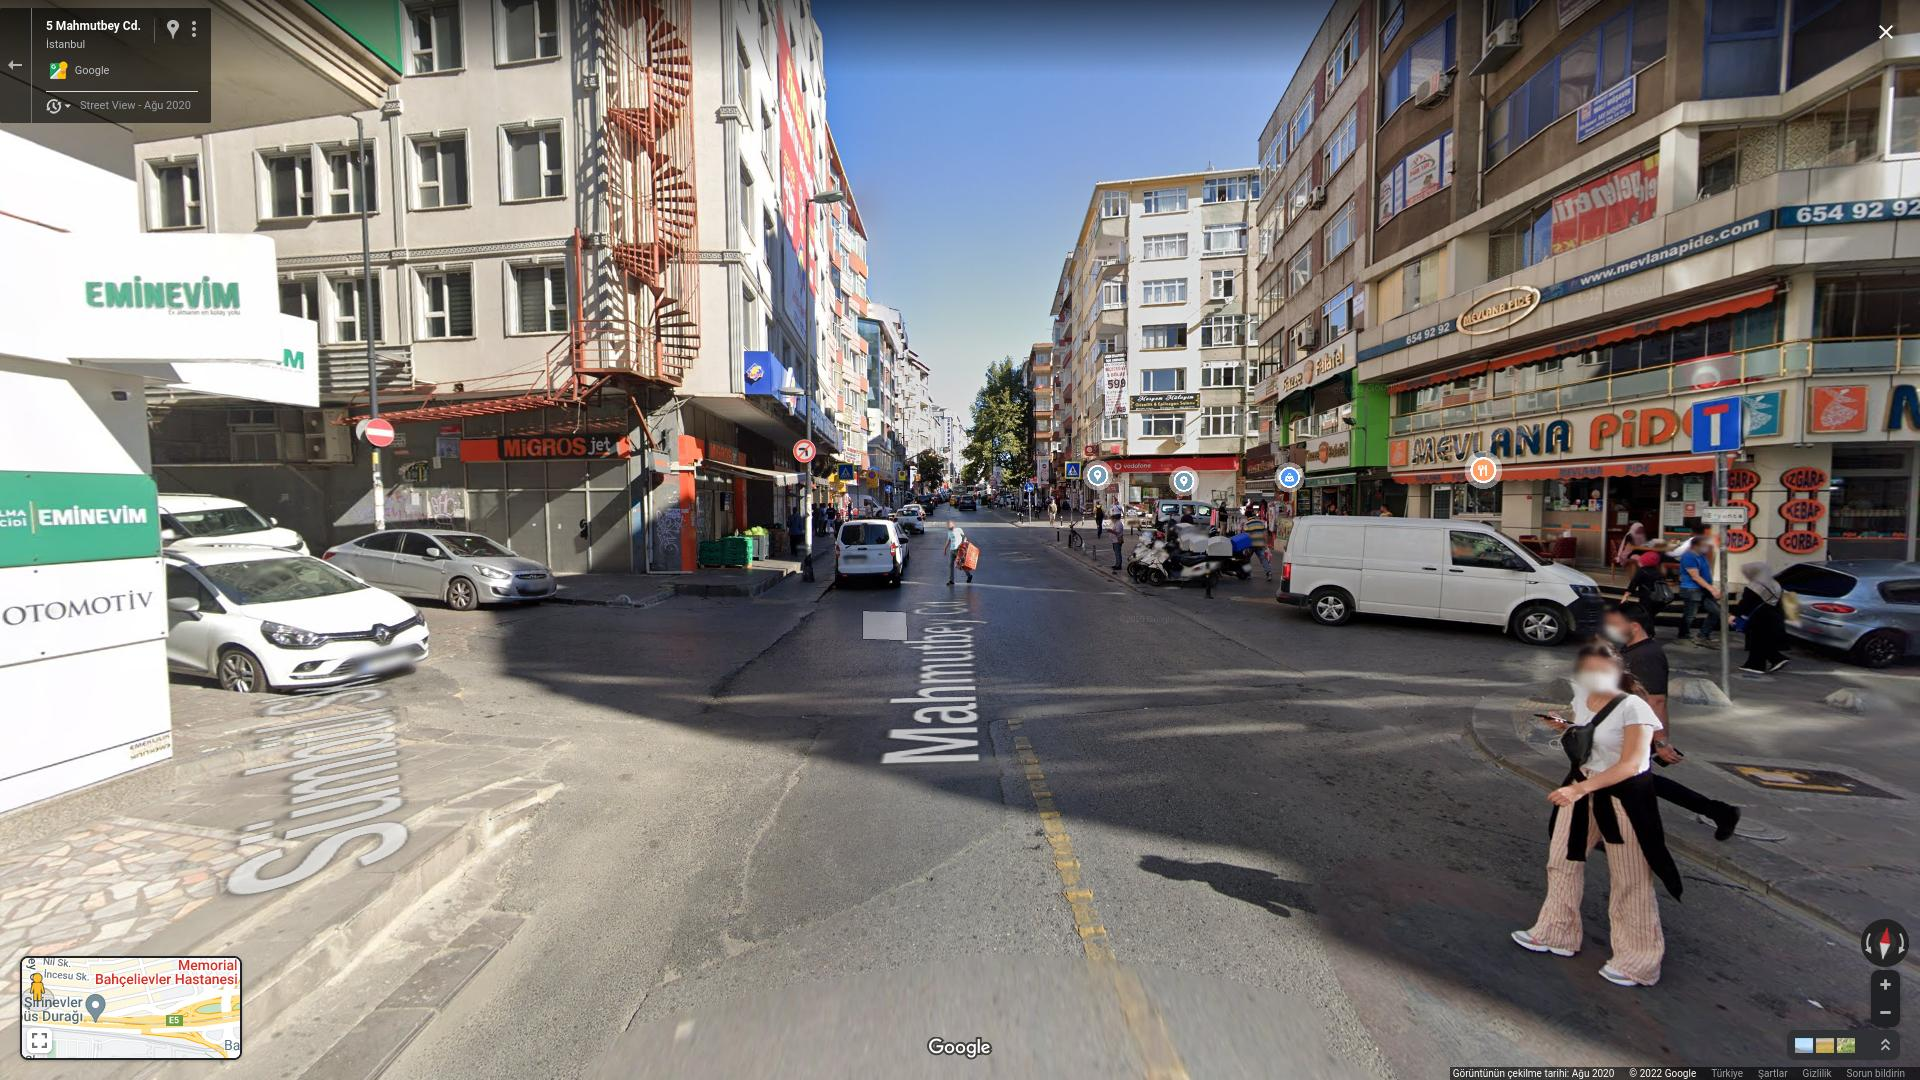leftturnsareforbidden: (793, 439, 818, 464)
